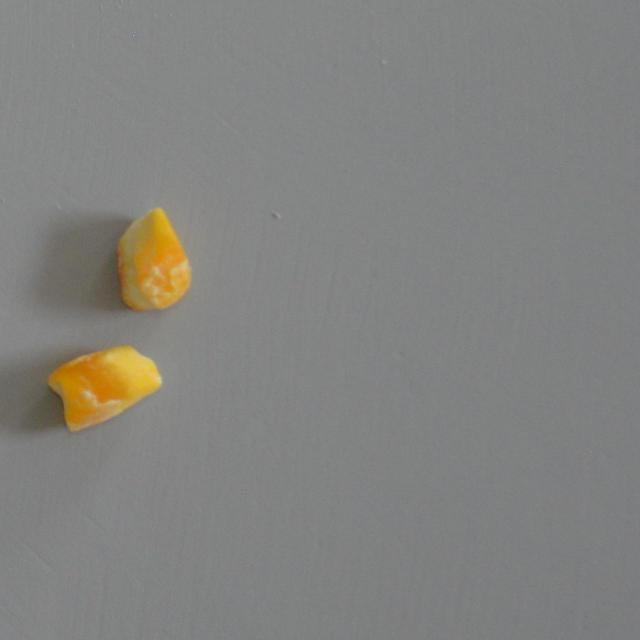pelicula: (46, 344, 162, 434), (115, 204, 190, 308)
